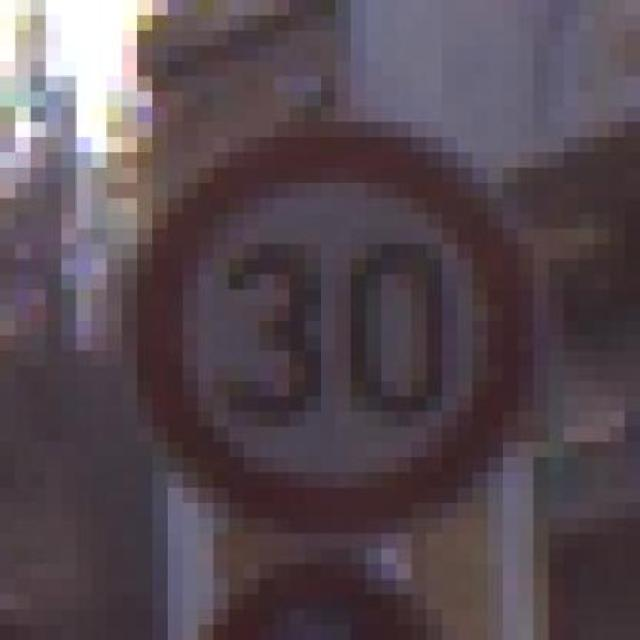Speed Limit 30 KMPh: (76, 92, 564, 533)
